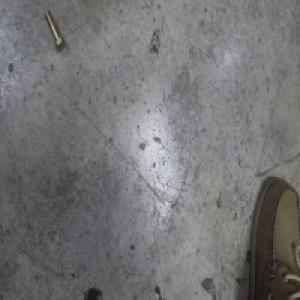Bolt: (45, 9, 66, 52)
